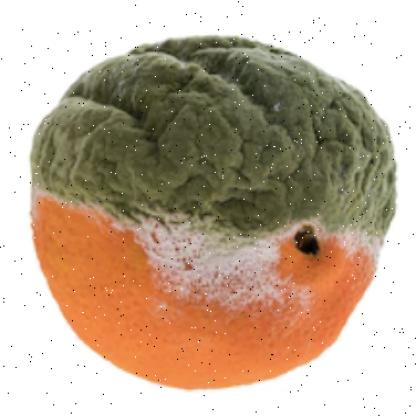rotten: (33, 38, 397, 393)
